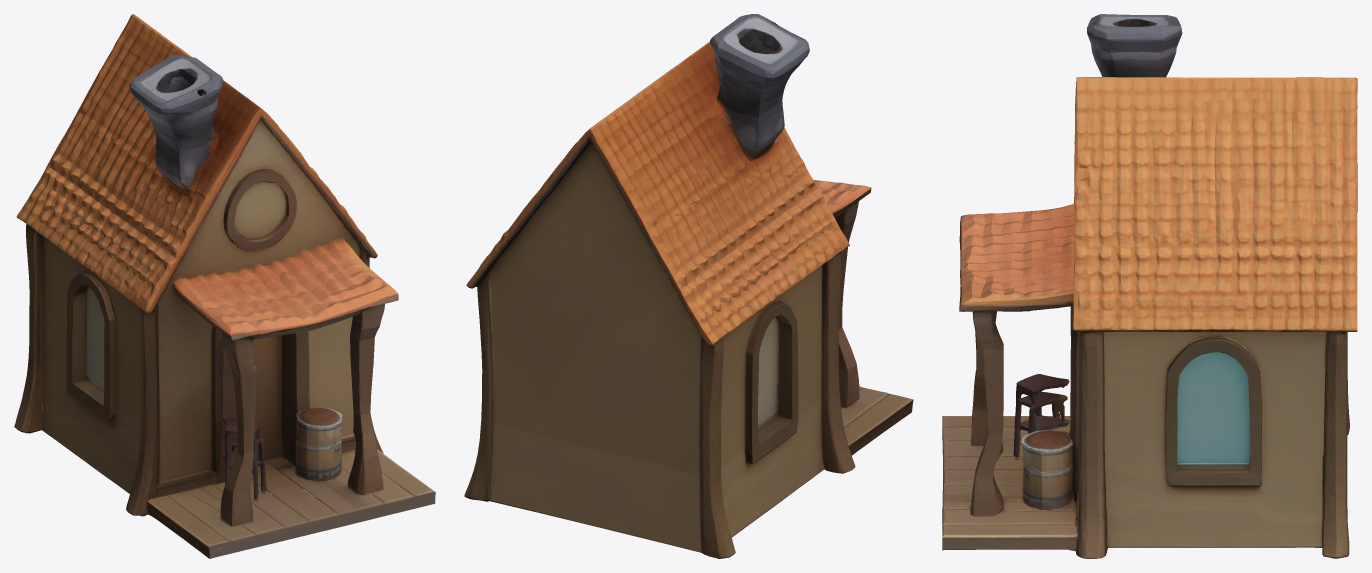
File: partflow_t02.glb
3 views of the same model, side by side, from view 1: azimuth 30°, elevation 25°; view 2: azimuth 150°, elevation 25°; view 3: azimuth 270°, elevation 25° (orthographic). The views are drawn at different scales.
Visible parts, largest first — view 1: geometry_0; view 2: geometry_0; view 3: geometry_0.
Boxes of the visible parts, box(x1,y1,x2,y2) form: geometry_0: box(14, 14, 435, 558); geometry_0: box(464, 14, 913, 558); geometry_0: box(942, 14, 1357, 558).
Size of the model in its own units: 0.7262 by 1.13 by 0.9505.
Materials: 1 (1 with a texture image).
